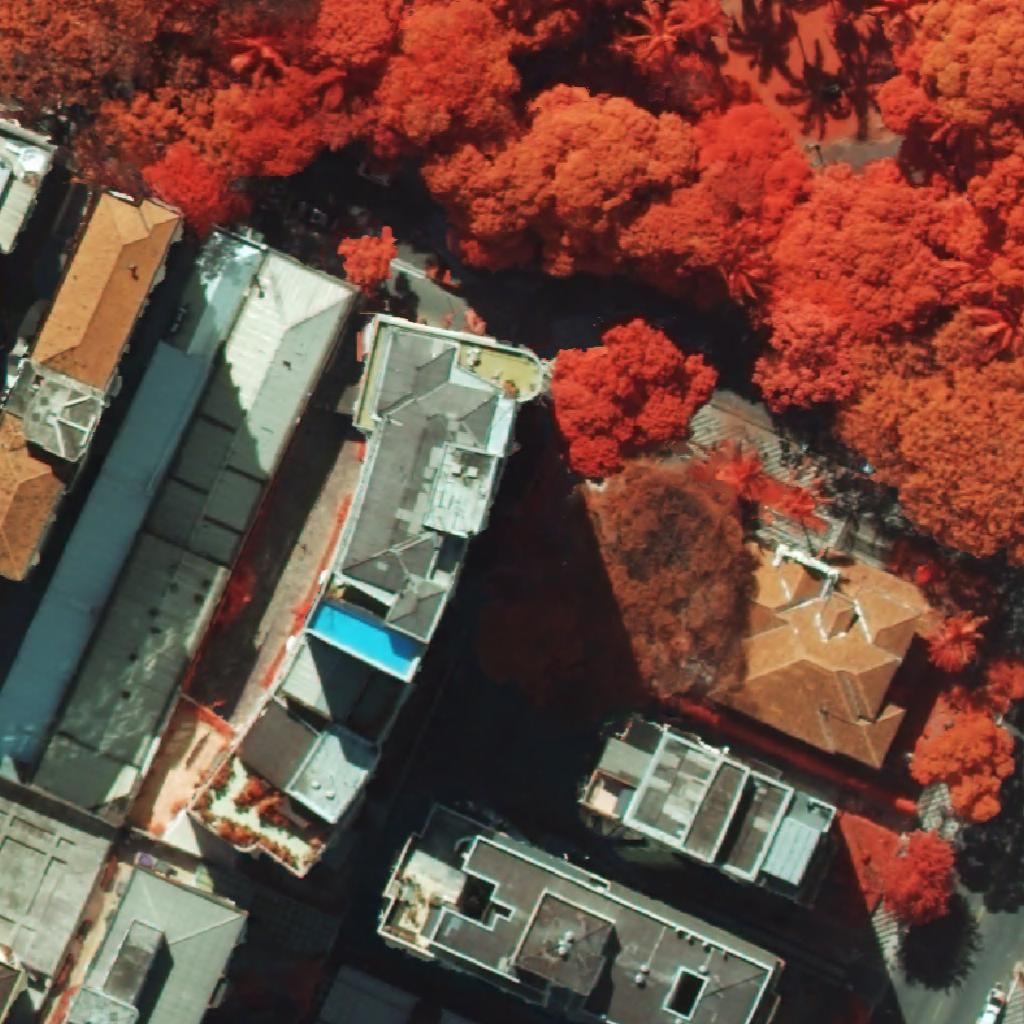pool: (309, 601, 421, 676)
